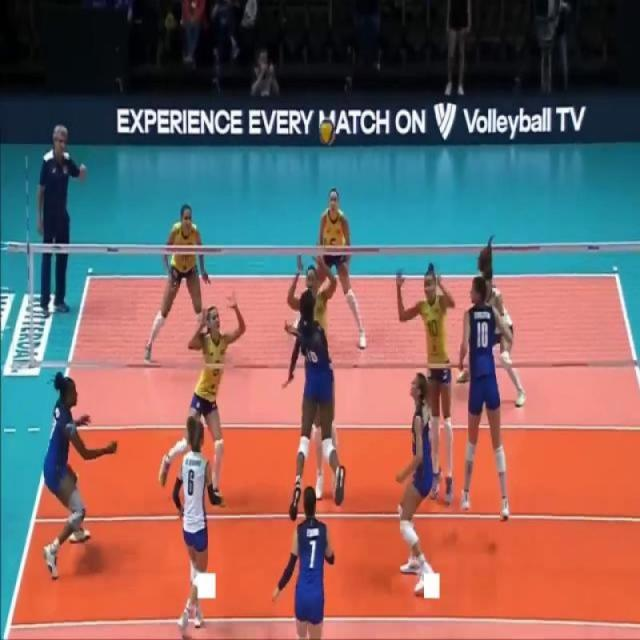volleyball: (319, 116, 336, 146)
